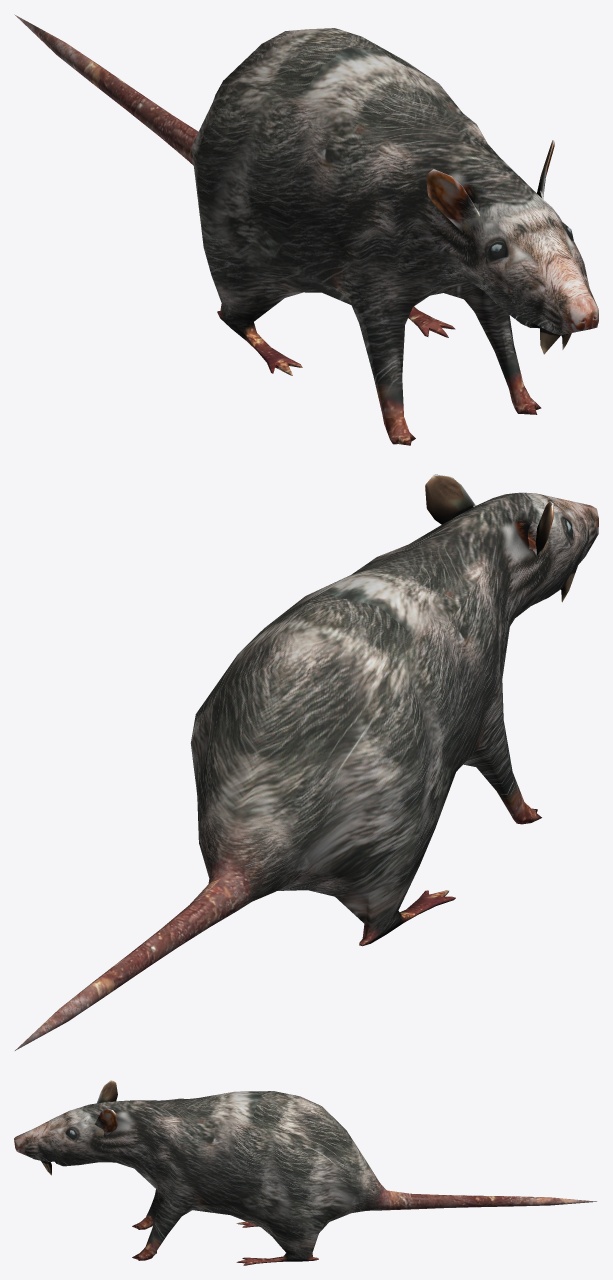
Rendered from rat.obj.
3 renders of one model, top to bottom at view 1: azimuth 30°, elevation 25°; view 2: azimuth 150°, elevation 25°; view 3: azimuth 270°, elevation 25°, orthographic. The views are drawn at different scales.
Parts seen in each view (by area): view 1: ratlow; view 2: ratlow; view 3: ratlow.
Boxes of the visible parts, box(x1,y1,x2,y2) form: ratlow: box(14, 14, 598, 445); ratlow: box(15, 474, 598, 1050); ratlow: box(14, 1080, 596, 1265).
Size of the model in its own units: 1.21 by 1.52 by 5.44.
Materials: 1 (1 with a texture image).
